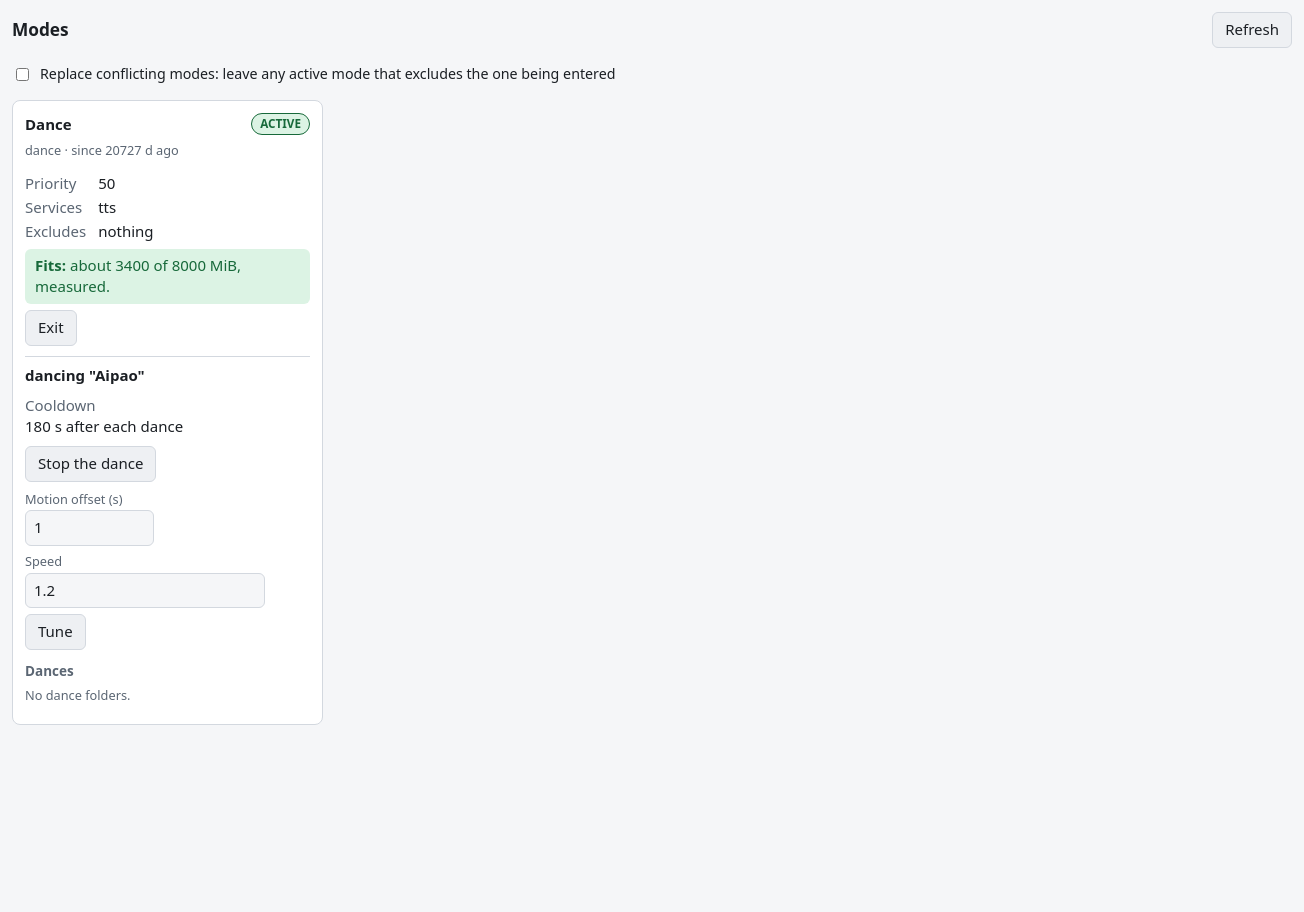
what a mode shows and offers by itself › a refusal from the mode is shown, and an empty list says what it is waiting for
The width and height of the screenshot is (1304, 912).
Expected: the text "No dance folders." is shown, [25,686,130,704]
Click the button "Tune": [55, 632] box [25,614,86,650]
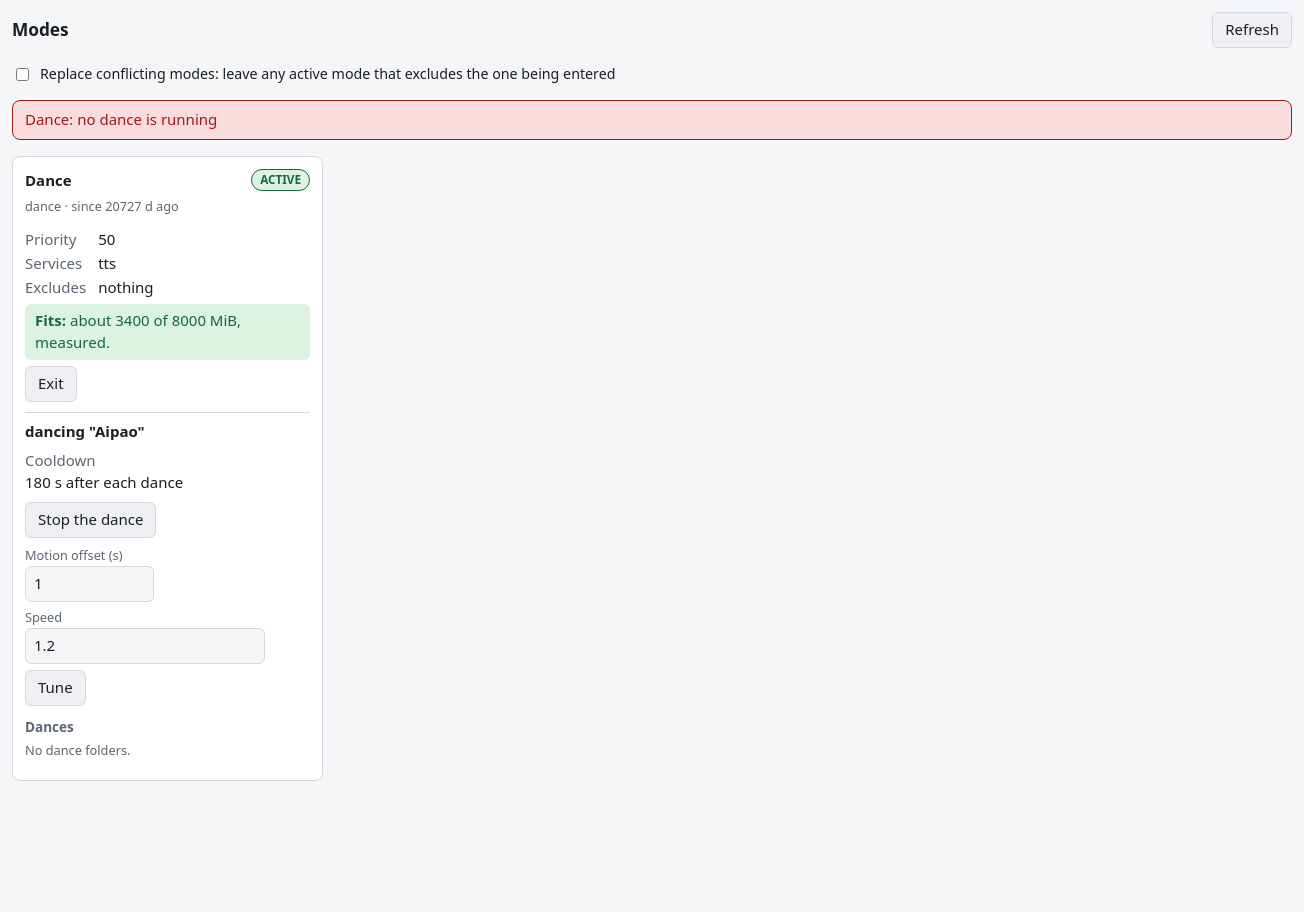
Result: the text "Dance: no dance is running" is shown at [12,100,1292,140]
